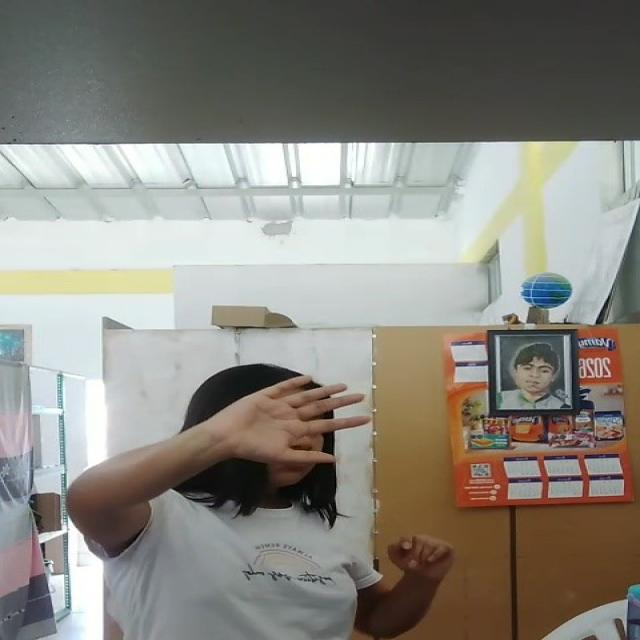7_mano_rostro: (210, 384, 336, 462)
